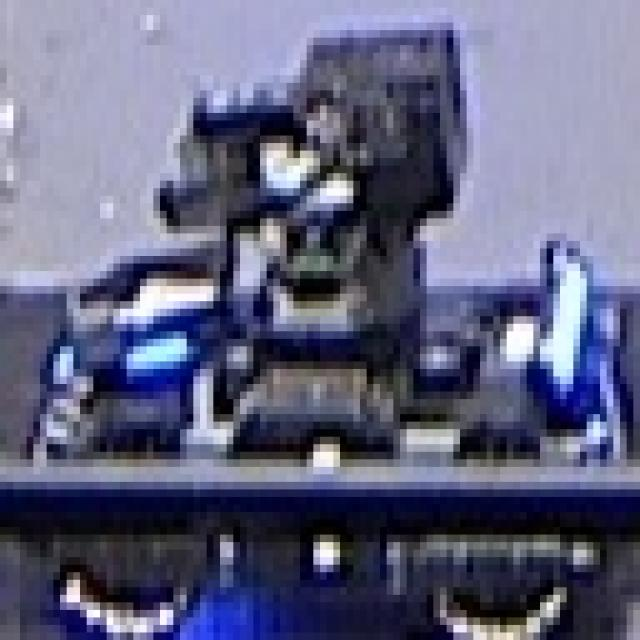B4: (93, 241, 220, 391)
